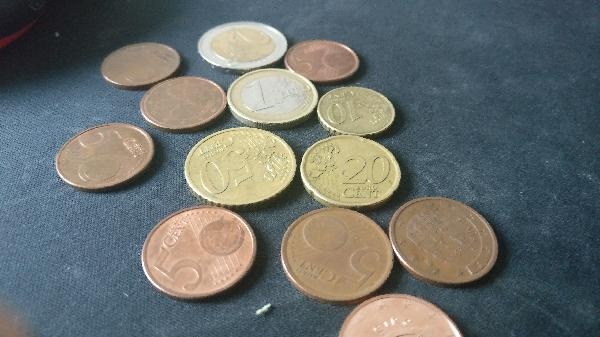Fifty Cent: (178, 123, 299, 210)
Five Cent: (141, 203, 260, 302), (279, 206, 392, 301), (390, 194, 500, 287), (53, 121, 158, 193), (334, 294, 468, 337), (140, 75, 228, 127), (100, 40, 183, 90), (285, 38, 361, 85)
One Euro: (228, 67, 321, 128)
Ten Cent: (316, 84, 398, 136)
Twenty Cent: (300, 134, 407, 212)
Two Euro: (197, 19, 288, 72)
